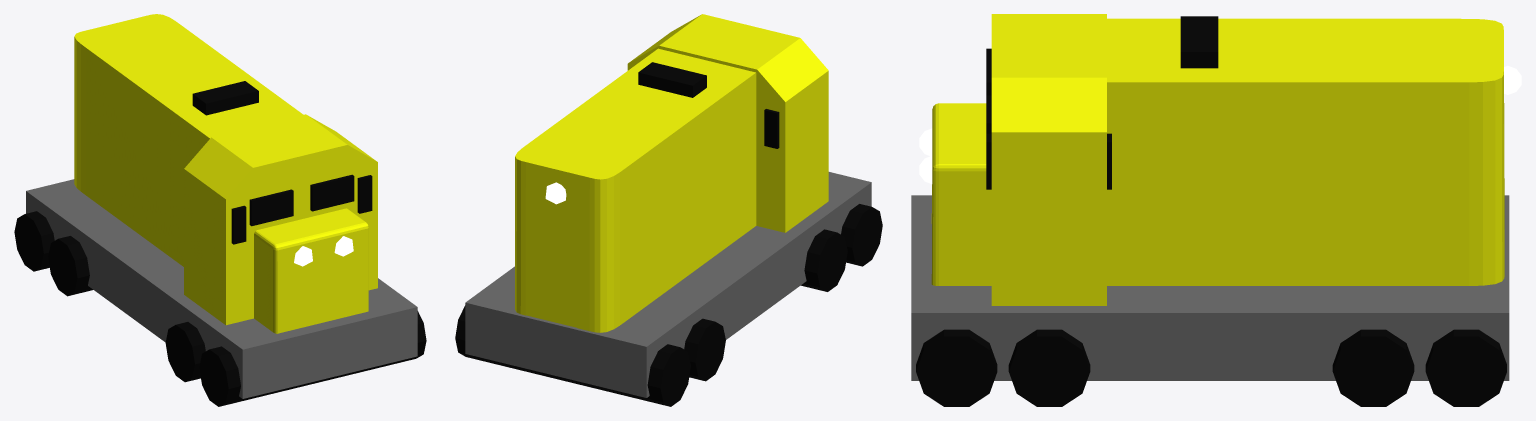
File: Alco Whatever.glb
The picture shows the model from 3 angles, left to right: view 1: azimuth 30°, elevation 25°; view 2: azimuth 150°, elevation 25°; view 3: azimuth 270°, elevation 25°; orthographic projection. The views are drawn at different scales.
Visible parts, largest first — view 1: Alco CXXX; view 2: Alco CXXX; view 3: Alco CXXX.
Boxes of the visible parts, x1,y1,x2,y2 form: Alco CXXX: [14, 14, 426, 406]; Alco CXXX: [455, 14, 882, 406]; Alco CXXX: [911, 14, 1521, 406].
Bounding box in the file's own units: 2.26 × 2.43 × 4.38.
